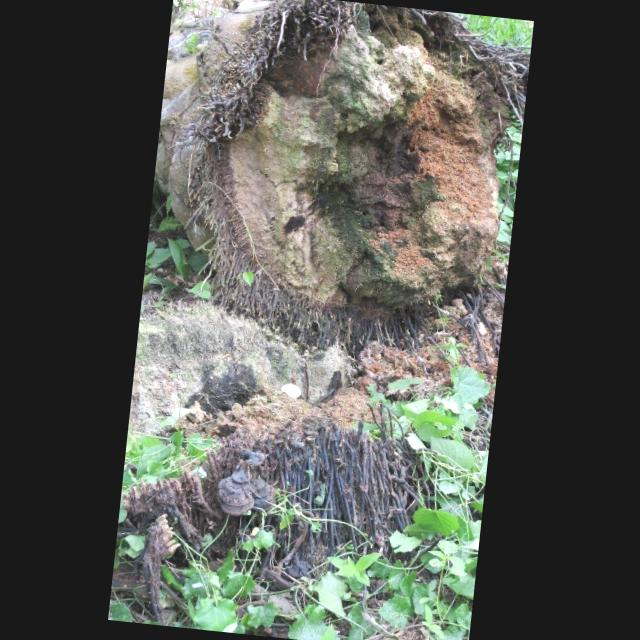ganoderma: (214, 468, 278, 523), (244, 449, 267, 470)
primordium: (279, 383, 302, 400)
